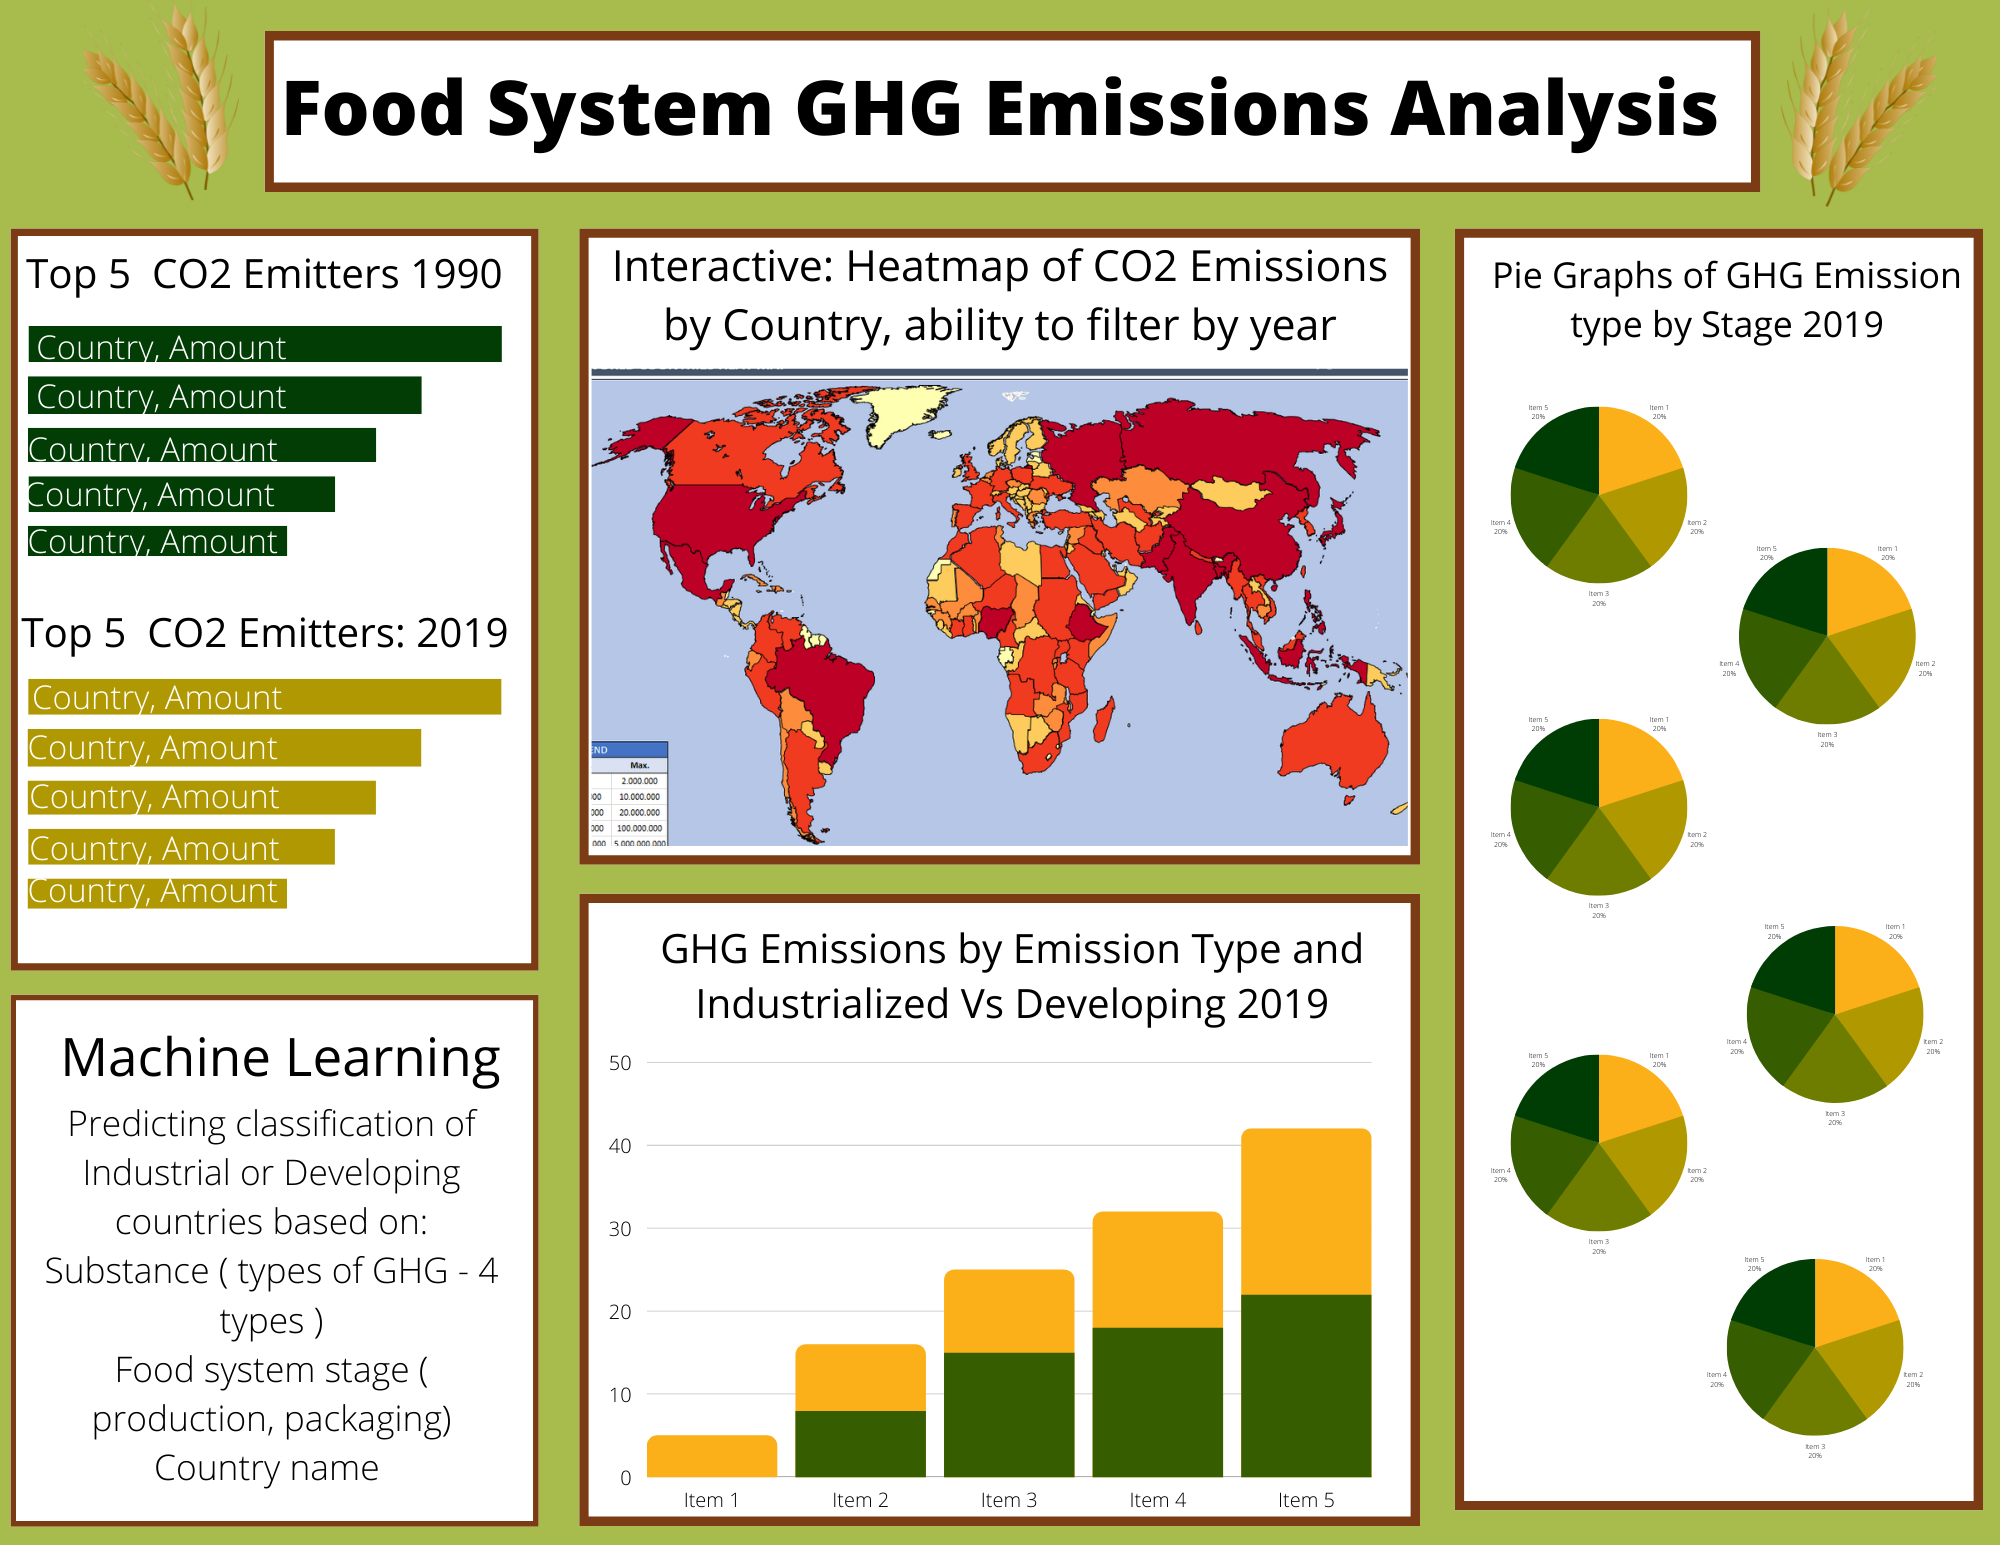

The dashboard page shown, as its layout file describes it:
{"tool":"tableau","page":{"name":"Food System Greenhouse Gas Emissions","canvas":[1200,900],"ordinal":0},"visuals":[{"type":"title","box":[8,8,1184,51]},{"type":"blank","box":[597,57,4,827]},{"type":"text","box":[12,60,575,52]},{"type":"text","box":[611,60,575,52]},{"type":"blank","box":[611,118,575,277]},{"type":"worksheet","title":"Yearly Emissions Heatmap","mark":"Automatic","box":[15,119,575,334]},{"type":"worksheet","title":"GhG Emissions Total grouped by year","mark":"Automatic","rows":["ghg_emissions (kt CO2eq)"],"cols":["year"],"box":[614,120,448,271]},{"type":"legend","title":"GhG Emissions Total grouped by year","param":"[federated.14hubyx009gc2x13z5pop1h8nzz4].[none:Region:nk]","box":[1070,136,112,225]},{"type":"blank","box":[610,402,575,249]},{"type":"legend","title":"Yearly Emissions Heatmap","param":"[federated.14hubyx009gc2x13z5pop1h8nzz4].[sum:ghg_emissions (kt CO2eq):qk]","box":[253,409,263,42]},{"type":"worksheet","title":"Top 5 Emitters by Food System Stage","mark":"Automatic","rows":["ghg_emissions (kt CO2eq)"],"cols":["Top Emitters by Country","Calculation_2232870681736089600","Name"],"box":[612,409,452,238]},{"type":"worksheet","title":"Summary","mark":"Automatic","box":[18,426,229,26]},{"type":"legend","title":"Top 5 Emitters by Food System Stage","param":"[federated.14hubyx009gc2x13z5pop1h8nzz4].[none:Food_System_Stage:nk]","box":[1071,440,112,200]},{"type":"blank","box":[13,457,575,32]},{"type":"filter","title":"Yearly Emissions Heatmap","param":"[federated.14hubyx009gc2x13z5pop1h8nzz4].[none:Substance:nk]","box":[410,461,172,26]},{"type":"filter","title":"Yearly Emissions Heatmap","param":"[federated.14hubyx009gc2x13z5pop1h8nzz4].[yr:year:ok]","box":[19,462,331,23]},{"type":"blank","box":[15,494,575,392]},{"type":"text","box":[20,500,564,47]},{"type":"text","box":[615.6,506.2,546.8,72]},{"type":"text","box":[390,528,63,19]},{"type":"blank","box":[32,555,118,127]},{"type":"blank","box":[172,555,118,125]},{"type":"blank","box":[313,555,118,125]},{"type":"blank","box":[455,555,118,125]},{"type":"image","param":"Image/farm.png","box":[33,557,102,101]},{"type":"image","param":"Image/tools.png","box":[182,557,102,101]},{"type":"image","param":"Image/factory.png","box":[321,557,102,101]},{"type":"image","param":"Image/snacks.png","box":[462,557,103,101]},{"type":"text","box":[174,650,105,33]},{"type":"text","box":[315,651,104,34]},{"type":"text","box":[457,651,104,34]},{"type":"text","box":[46,653,104,33]},{"type":"image","param":"Image/2018.png","box":[610,656,319,229]},{"type":"worksheet","title":"Industrialized Vs Developing","mark":"Bar","rows":["ghg_emissions (kt CO2eq)"],"cols":["Country_class"],"box":[933,656,249,228]},{"type":"text","box":[619,659,305,43]},{"type":"worksheet","title":"Production","mark":"Automatic","box":[172,683,118,24]},{"type":"worksheet","title":"Processing","mark":"Automatic","box":[313,683,118,24]},{"type":"worksheet","title":"Packaging","mark":"Automatic","box":[455,683,118,24]},{"type":"worksheet","title":"LULUC","mark":"Automatic","box":[32,685,118,24]},{"type":"blank","box":[32,720,118,124]},{"type":"blank","box":[172,720,117,125]},{"type":"blank","box":[313,720,118,125]},{"type":"blank","box":[455,720,118,125]},{"type":"image","param":"Image/894483.png","box":[320,722,102,101]},{"type":"image","param":"Image/tank-truck.png","box":[39,723,102,101]},{"type":"image","param":"Image/store.png","box":[182,723,96,97]},{"type":"image","param":"Image/bin.png","box":[465,724,96,98]},{"type":"text","box":[33,815,104,34]},{"type":"text","box":[315,816,104,34]},{"type":"text","box":[174,817,104,34]},{"type":"text","box":[456,818,104,33]},{"type":"worksheet","title":"Transport","mark":"Automatic","box":[32,847,118,24]},{"type":"worksheet","title":"Retail","mark":"Automatic","box":[172,848,118,24]},{"type":"worksheet","title":"Consumption","mark":"Automatic","box":[313,848,118,24]},{"type":"worksheet","title":"End of Life","mark":"Automatic","box":[455,848,118,24]},{"type":"text","box":[626,858,293,24]}]}

Visuals, with their boxes in screenshot pixels (x1, y1, x2, y2), scaled from the page's 1200x900 canvas onto the 2000x1545 screenshot:
title: 13, 14, 1987, 101
blank: 995, 98, 1002, 1518
text: 20, 103, 978, 192
text: 1018, 103, 1977, 192
blank: 1018, 203, 1977, 678
"Yearly Emissions Heatmap" worksheet: 25, 204, 983, 778
"GhG Emissions Total grouped by year" worksheet: 1023, 206, 1770, 671
"GhG Emissions Total grouped by year" legend: 1783, 233, 1970, 620
blank: 1017, 690, 1975, 1118
"Yearly Emissions Heatmap" legend: 422, 702, 860, 774
"Top 5 Emitters by Food System Stage" worksheet: 1020, 702, 1773, 1111
"Summary" worksheet: 30, 731, 412, 776
"Top 5 Emitters by Food System Stage" legend: 1785, 755, 1972, 1099
blank: 22, 785, 980, 839
"Yearly Emissions Heatmap" filter: 683, 791, 970, 836
"Yearly Emissions Heatmap" filter: 32, 793, 583, 833
blank: 25, 848, 983, 1521
text: 33, 858, 973, 939
text: 1026, 869, 1937, 993
text: 650, 906, 755, 939
blank: 53, 953, 250, 1171
blank: 287, 953, 483, 1167
blank: 522, 953, 718, 1167
blank: 758, 953, 955, 1167
image: 55, 956, 225, 1130
image: 303, 956, 473, 1130
image: 535, 956, 705, 1130
image: 770, 956, 942, 1130
text: 290, 1116, 465, 1172
text: 525, 1118, 698, 1176
text: 762, 1118, 935, 1176
text: 77, 1121, 250, 1178
image: 1017, 1126, 1548, 1519
"Industrialized Vs Developing" worksheet (Bar marks): 1555, 1126, 1970, 1518
text: 1032, 1131, 1540, 1205
"Production" worksheet: 287, 1172, 483, 1214
"Processing" worksheet: 522, 1172, 718, 1214
"Packaging" worksheet: 758, 1172, 955, 1214
"LULUC" worksheet: 53, 1176, 250, 1217
blank: 53, 1236, 250, 1449
blank: 287, 1236, 482, 1451
blank: 522, 1236, 718, 1451
blank: 758, 1236, 955, 1451
image: 533, 1239, 703, 1413
image: 65, 1241, 235, 1415
image: 303, 1241, 463, 1408
image: 775, 1243, 935, 1411
text: 55, 1399, 228, 1457
text: 525, 1401, 698, 1459
text: 290, 1403, 463, 1461
text: 760, 1404, 933, 1461
"Transport" worksheet: 53, 1454, 250, 1495
"Retail" worksheet: 287, 1456, 483, 1497
"Consumption" worksheet: 522, 1456, 718, 1497
"End of Life" worksheet: 758, 1456, 955, 1497
text: 1043, 1473, 1532, 1514
